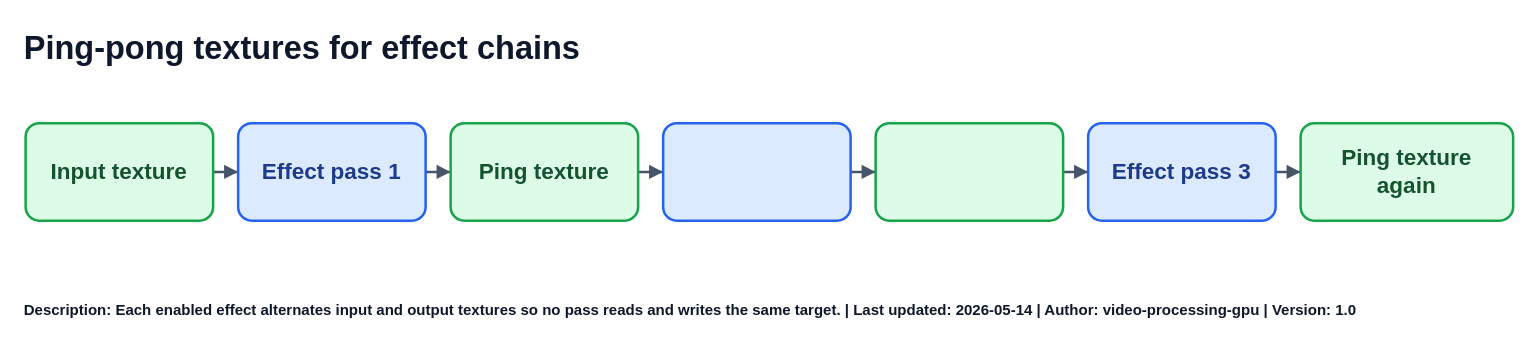
The diagram is 1538 pixels wide and 343 high, and some of its shapes have lost their labels. The shapes that lost their labels are listed below. From the top down, each one's centre as x and y in pixels, then its label:
At [756,171]: "Effect pass 2".
At [969,171]: "Pong texture".
